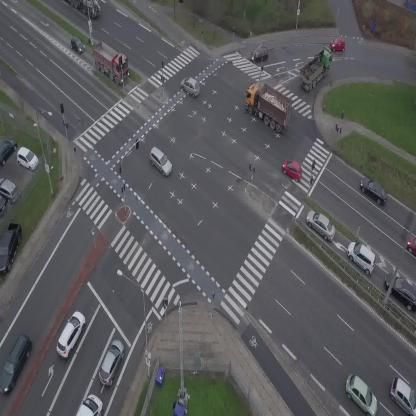car: (0, 332, 37, 396), (338, 371, 385, 416), (51, 308, 90, 359), (95, 337, 129, 388), (341, 237, 383, 277), (301, 205, 341, 244), (355, 175, 393, 207), (144, 146, 177, 178), (278, 156, 307, 183), (178, 73, 204, 99), (66, 34, 87, 57), (250, 46, 269, 61), (331, 37, 345, 51), (407, 236, 416, 255)
lorry: (236, 77, 300, 135), (83, 36, 138, 87), (293, 45, 341, 93), (67, 0, 100, 19), (76, 394, 103, 416)
